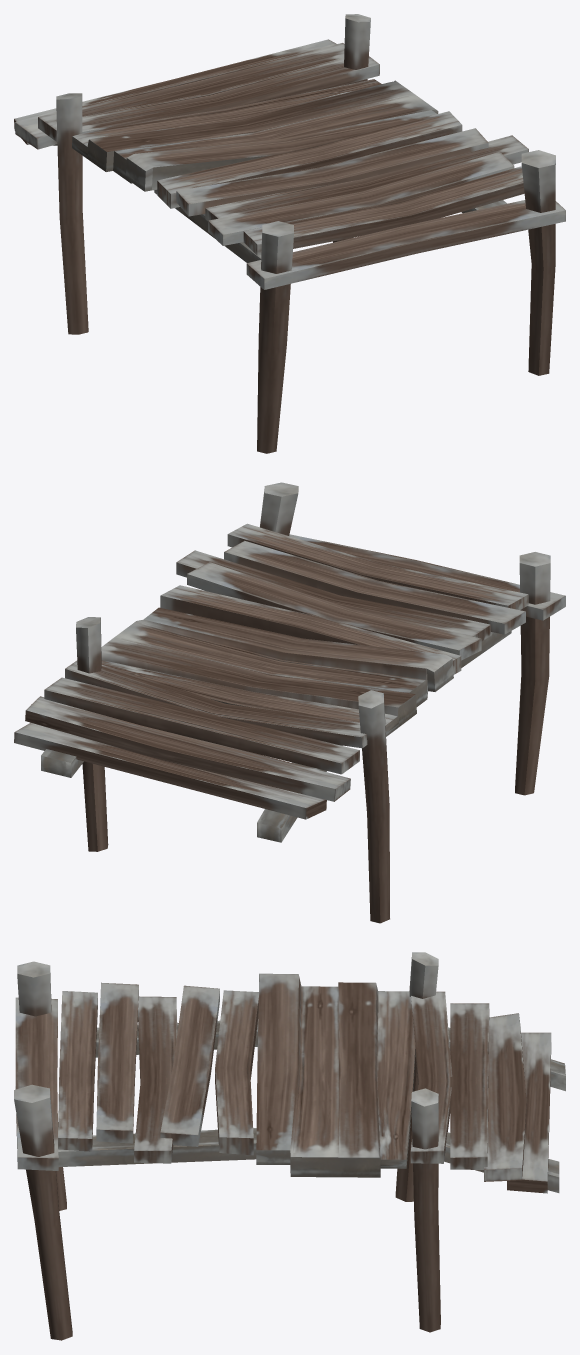
The model's file is snow_a_n01.fbx.
The picture shows the model from 3 angles, top to bottom: view 1: azimuth 30°, elevation 25°; view 2: azimuth 150°, elevation 25°; view 3: azimuth 270°, elevation 25°; orthographic projection. The views are drawn at different scales.
Visible parts, largest first — view 1: snow_a_n01; view 2: snow_a_n01; view 3: snow_a_n01.
Part boxes in pixels (x1=…): snow_a_n01: x1=14, y1=14, x2=565, y2=453; snow_a_n01: x1=14, y1=482, x2=565, y2=923; snow_a_n01: x1=14, y1=952, x2=565, y2=1340.
Size of the model in its own units: 934 by 642 by 1280.
